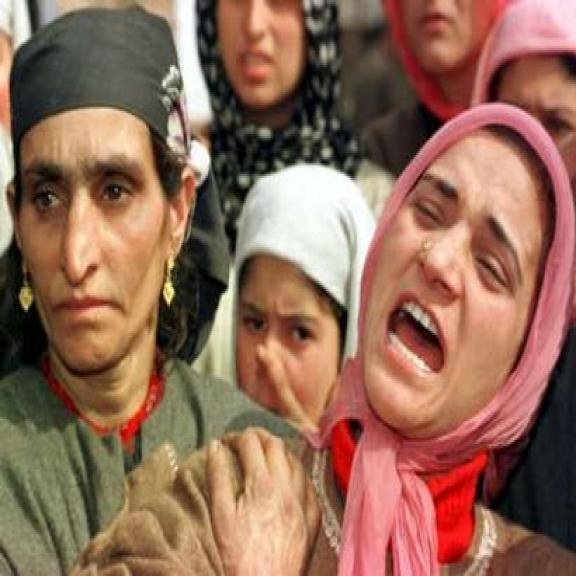face: (364, 125, 537, 436), (4, 112, 194, 379), (221, 261, 346, 423)
